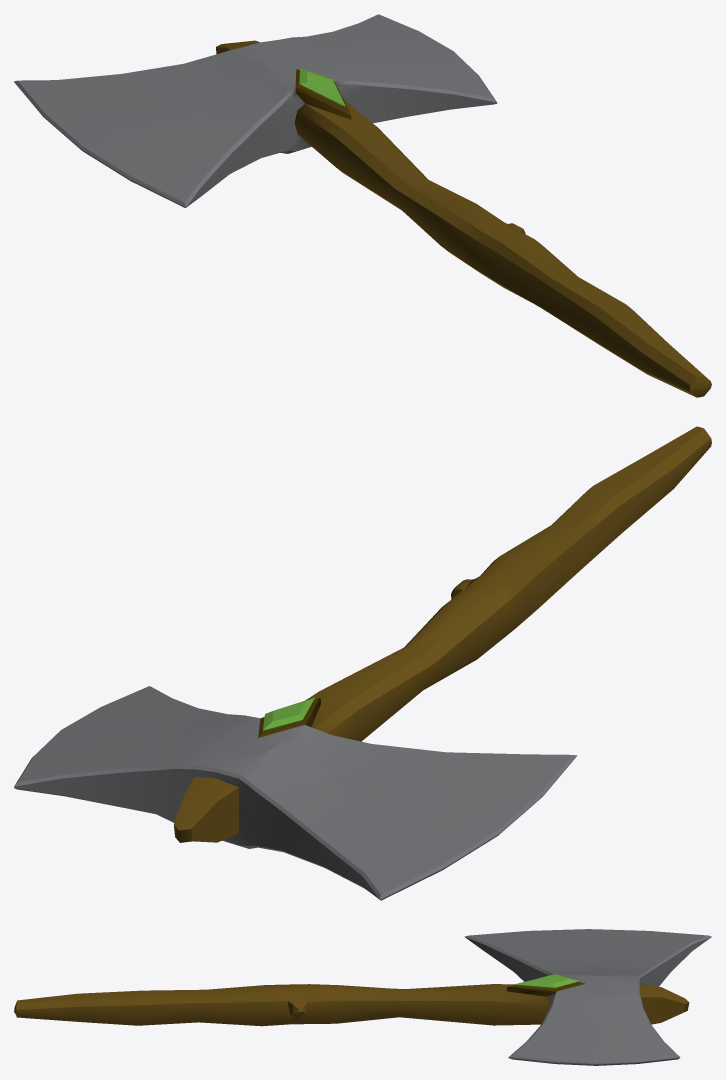
Rendered from wep_axe.fbx.
3 renders of one model, top to bottom at view 1: azimuth 30°, elevation 25°; view 2: azimuth 150°, elevation 25°; view 3: azimuth 270°, elevation 25°, orthographic. The views are drawn at different scales.
Visible parts, largest first — view 1: axe; view 2: axe; view 3: axe.
Boxes of the visible parts, <box> form: axe: <box>14,14,711,397</box>; axe: <box>14,426,711,900</box>; axe: <box>14,929,711,1065</box>.
Size of the model in its own units: 9.85 by 1.72 by 21.77.
